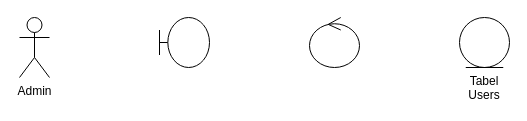
Some shapes in this 527 by 121 pixel diagram are drawn without their labels. Each missing label, with the centre of its shape:
AuthController: point (334, 42)
Halaman Login: point (184, 42)
